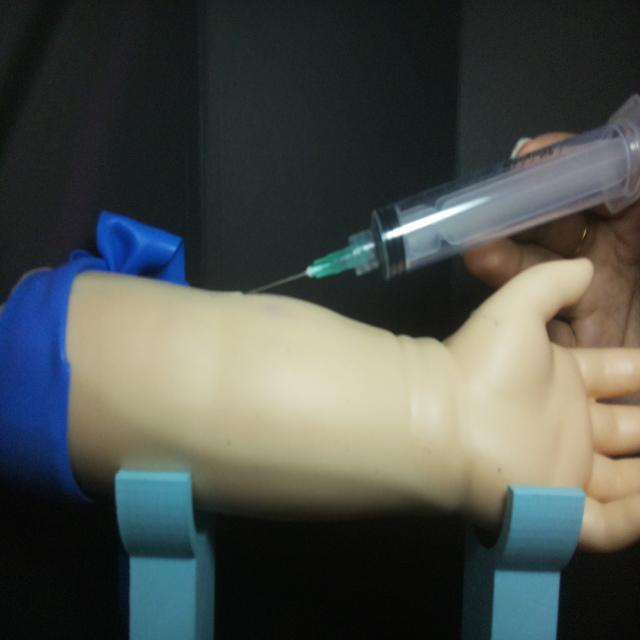19deg: (242, 90, 638, 299)
